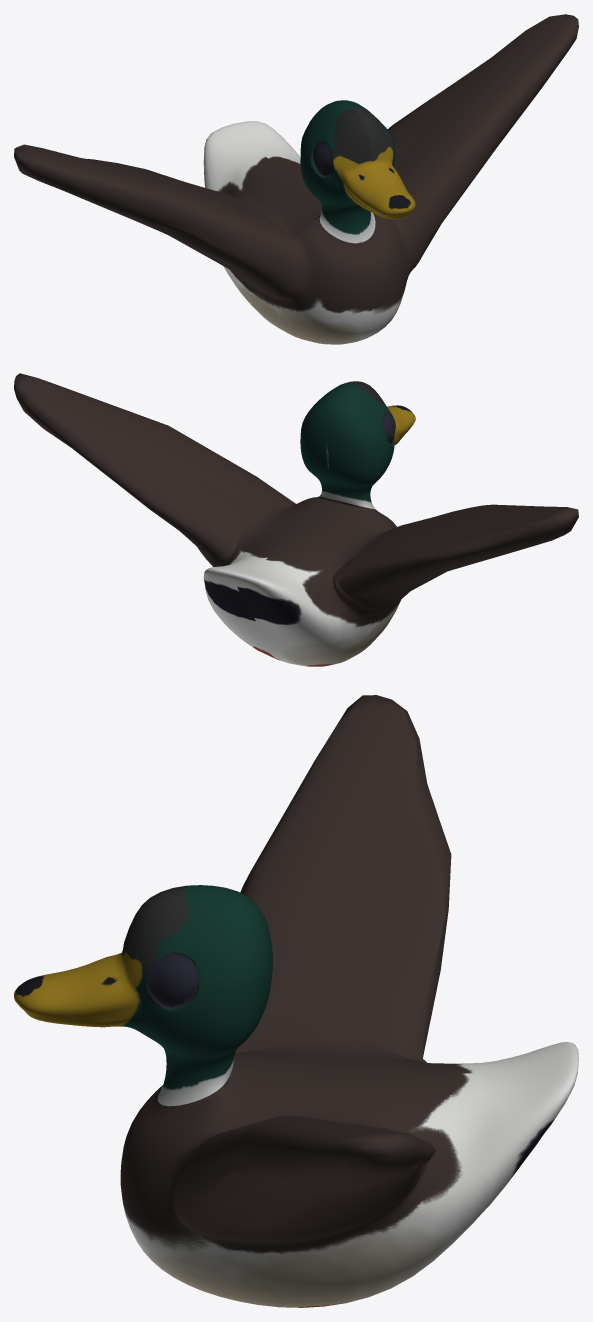
The model's file is duck_up.fbx.
3 renders of one model, top to bottom at view 1: azimuth 30°, elevation 25°; view 2: azimuth 150°, elevation 25°; view 3: azimuth 270°, elevation 25°, orthographic. The views are drawn at different scales.
Visible parts, largest first — view 1: duck_up1; view 2: duck_up1; view 3: duck_up1.
Part boxes in pixels (box(x1,y1,x2,y2)): duck_up1: box(14, 14, 578, 344); duck_up1: box(14, 373, 578, 666); duck_up1: box(14, 695, 578, 1307).
Size of the model in its own units: 3.93 by 1.66 by 2.1.
